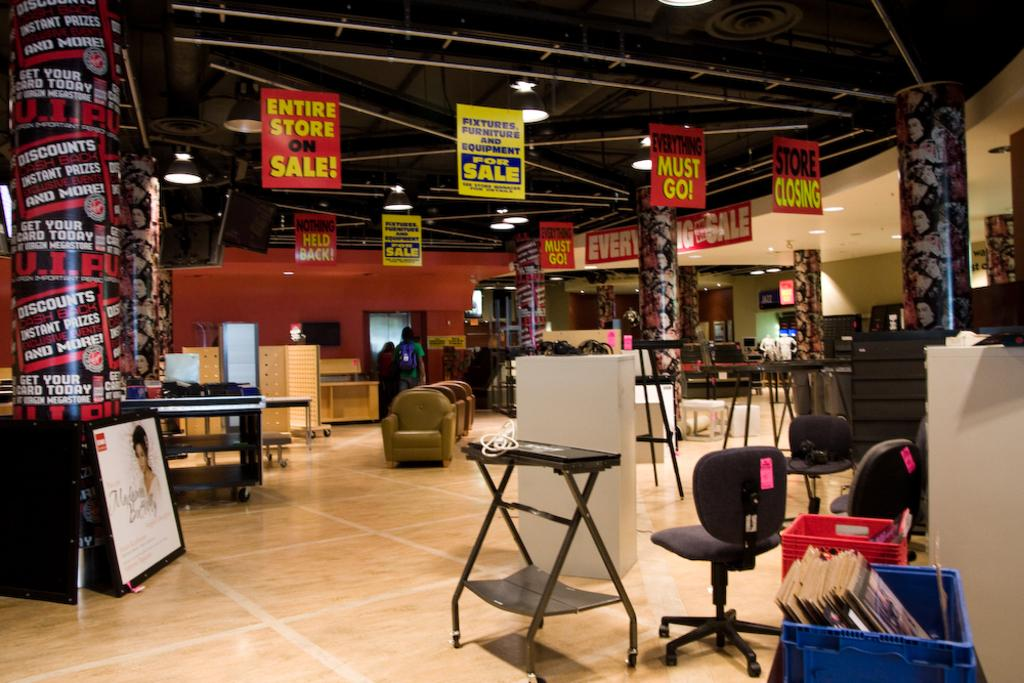Chair: (650, 445, 787, 677)
